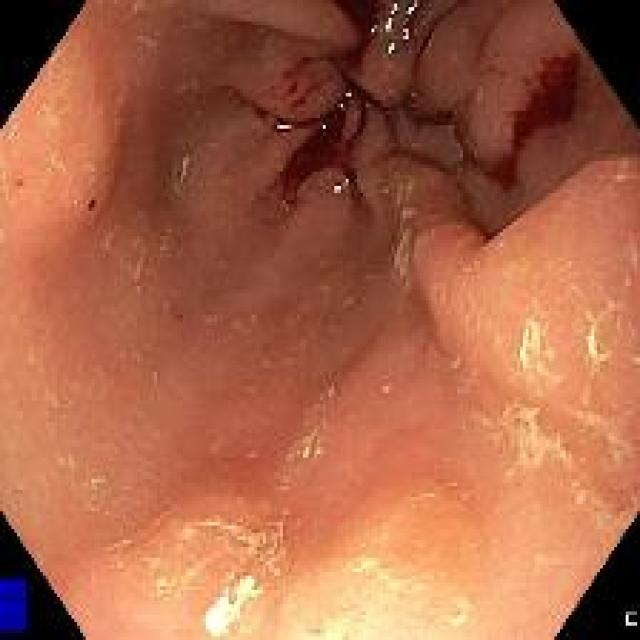blood: (254, 1, 490, 217), (492, 56, 576, 181)
color misalignment: (1, 580, 28, 633)
saturation: (203, 571, 471, 637)
specularity: (370, 1, 422, 58), (334, 85, 355, 113), (270, 119, 295, 136), (332, 175, 353, 195), (318, 119, 330, 136)
